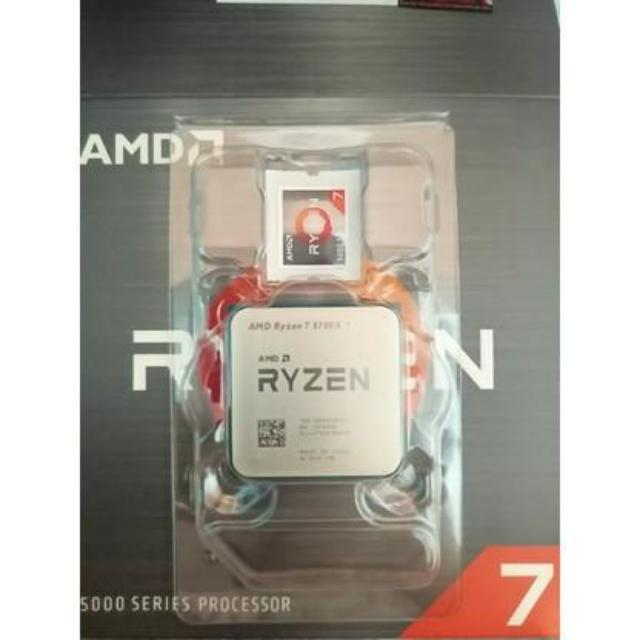CPU: (230, 308, 405, 478)
